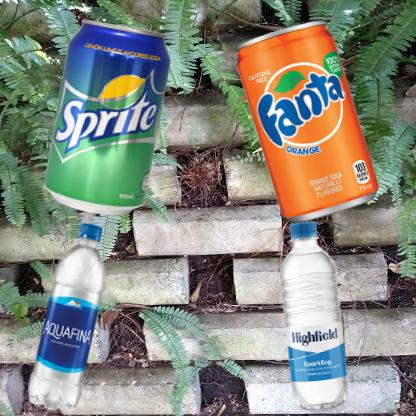botella: (213, 213, 414, 416), (10, 213, 150, 416)
lata: (213, 10, 416, 259), (10, 10, 211, 236)
